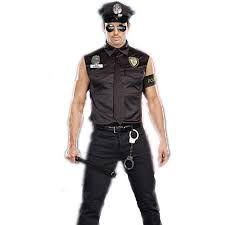uniform: (83, 43, 160, 218)
